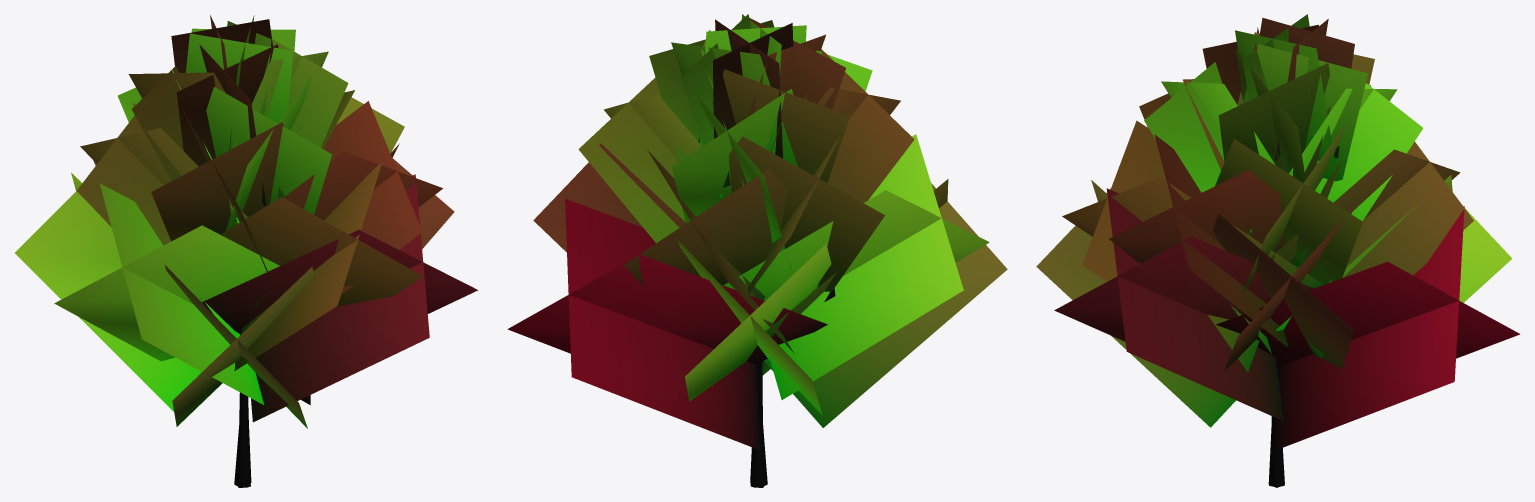
The model's file is Tree_2_6.fbx.
The picture shows the model from 3 angles, left to right: view 1: azimuth 30°, elevation 25°; view 2: azimuth 150°, elevation 25°; view 3: azimuth 270°, elevation 25°; orthographic projection. The views are drawn at different scales.
Visible parts, largest first — view 1: Tree_2_6; view 2: Tree_2_6; view 3: Tree_2_6.
Boxes of the visible parts, x1,y1,x2,y2 form: Tree_2_6: (15,15,477,487); Tree_2_6: (507,14,1007,487); Tree_2_6: (1036,14,1520,487).
Bounding box in the file's own units: 4143 × 4622 × 4475.
